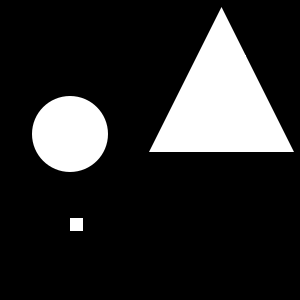circle: (230, 55, 246, 71), (70, 218, 83, 231)
rectangle: (32, 96, 108, 172)
triangle: (149, 7, 294, 152)
